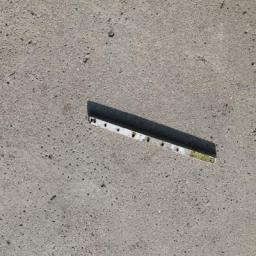FOD: (84, 100, 219, 172)
